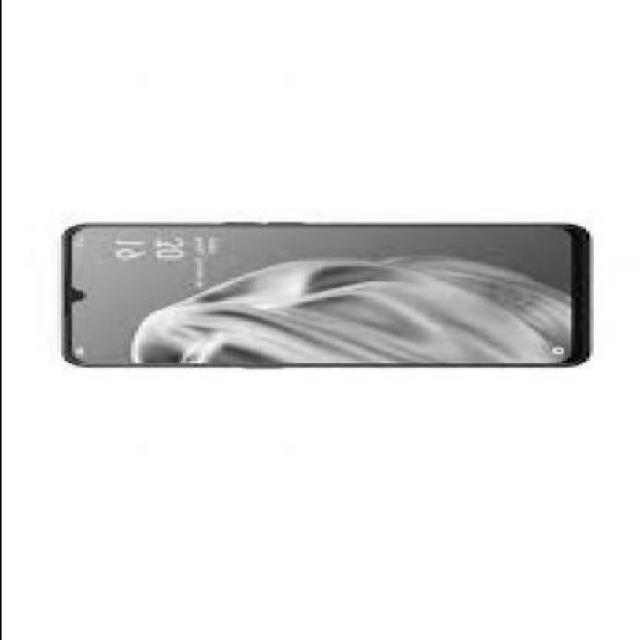fake: (56, 218, 592, 370)
